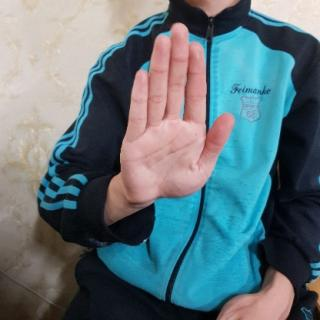SEEN: (118, 17, 236, 214)
